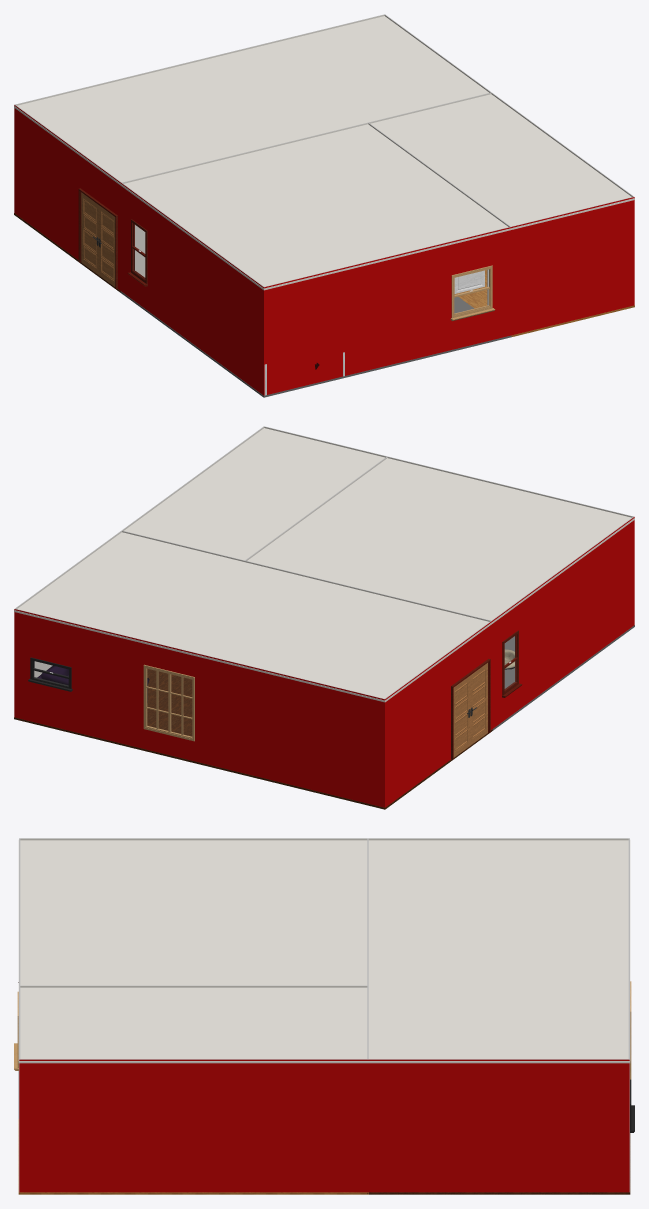
File: ProcTHOR-Train-80.glb
3 views of the same model, one above another, from view 1: azimuth 30°, elevation 25°; view 2: azimuth 150°, elevation 25°; view 3: azimuth 270°, elevation 25° (orthographic). The views are drawn at different scales.
Visible parts, largest first — view 1: Ceiling#room|4|c, Ceiling#room|6|c, WallInside#wall|exterior|3.69|12.92|11.07|12.92, Ceiling#room|5|c, WallInside#wall|exterior|11.07|5.54|11.07|12.92, WallInside#wall|exterior|0.00|12.92|3.69|12.92, Ceiling#room|7|c, WallInside#wall|exterior|11.07|0.00|11.07|5.54, Doorway_Door_7b, Doorway_Door_7a, Floor#room|4|f, WallInside#wall|4|3.69|5.54|11.07|5.54 (+4 smaller); view 2: Ceiling#room|4|c, Ceiling#room|6|c, WallInside#wall|exterior|3.69|0.00|11.07|0.00, Ceiling#room|5|c, WallInside#wall|exterior|11.07|5.54|11.07|12.92, Ceiling#room|7|c, WallInside#wall|exterior|0.00|0.00|3.69|0.00, WallInside#wall|exterior|11.07|0.00|11.07|5.54, Floor#room|7|f, Window_Fixed_60x72, Floor#room|6|f, Doorway_Door_7a (+5 smaller); view 3: Ceiling#room|4|c, WallInside#wall|exterior|0.00|5.54|0.00|12.92, Ceiling#room|6|c, WallInside#wall|exterior|0.00|0.00|0.00|5.54, Ceiling#room|5|c, Ceiling#room|7|c, Floor#room|5|f, WallInside#wall|5|3.69|5.54|3.69|12.92, WallInside#wall|4|11.07|5.54|11.07|12.92, Floor#room|7|f, WallInside#wall|6|11.07|0.00|11.07|5.54.
Boxes of the visible parts, x1,y1,x2,y2 form: Ceiling#room|4|c: [120, 124, 511, 290]; Ceiling#room|6|c: [14, 46, 366, 185]; WallInside#wall|exterior|3.69|12.92|11.07|12.92: [264, 227, 511, 395]; Ceiling#room|5|c: [370, 94, 634, 229]; WallInside#wall|exterior|11.07|5.54|11.07|12.92: [121, 183, 263, 395]; WallInside#wall|exterior|0.00|12.92|3.69|12.92: [510, 197, 634, 335]; Ceiling#room|7|c: [262, 16, 490, 122]; WallInside#wall|exterior|11.07|0.00|11.07|5.54: [14, 105, 121, 290]; Doorway_Door_7b: [81, 192, 98, 274]; Doorway_Door_7a: [98, 205, 115, 286]; Floor#room|4|f: [120, 291, 511, 397]; WallInside#wall|4|3.69|5.54|11.07|5.54: [122, 123, 368, 277]; Ceiling#room|4|c: [247, 458, 634, 623]; Ceiling#room|6|c: [137, 562, 492, 702]; WallInside#wall|exterior|3.69|0.00|11.07|0.00: [137, 639, 384, 807]; Ceiling#room|5|c: [124, 428, 387, 560]; WallInside#wall|exterior|11.07|5.54|11.07|12.92: [492, 517, 634, 728]; Ceiling#room|7|c: [14, 532, 244, 641]; WallInside#wall|exterior|0.00|0.00|3.69|0.00: [14, 609, 138, 747]; WallInside#wall|exterior|11.07|0.00|11.07|5.54: [385, 621, 492, 807]; Floor#room|7|f: [14, 668, 192, 748]; Window_Fixed_60x72: [143, 664, 194, 741]; Floor#room|6|f: [137, 708, 492, 809]; Doorway_Door_7a: [470, 663, 487, 745]; Ceiling#room|4|c: [18, 840, 368, 986]; WallInside#wall|exterior|0.00|5.54|0.00|12.92: [19, 1059, 368, 1192]; Ceiling#room|6|c: [367, 840, 630, 986]; WallInside#wall|exterior|0.00|0.00|0.00|5.54: [367, 1059, 629, 1192]; Ceiling#room|5|c: [18, 987, 368, 1063]; Ceiling#room|7|c: [367, 987, 630, 1063]; Floor#room|5|f: [18, 1119, 368, 1194]; WallInside#wall|5|3.69|5.54|3.69|12.92: [20, 985, 367, 987]; WallInside#wall|4|11.07|5.54|11.07|12.92: [20, 838, 367, 840]; Floor#room|7|f: [367, 1133, 630, 1194]; WallInside#wall|6|11.07|0.00|11.07|5.54: [368, 838, 628, 840].
Size of what is drawn, in the model's own units: 11.21 by 3.15 by 13.16.
232 materials, 94 textured.
